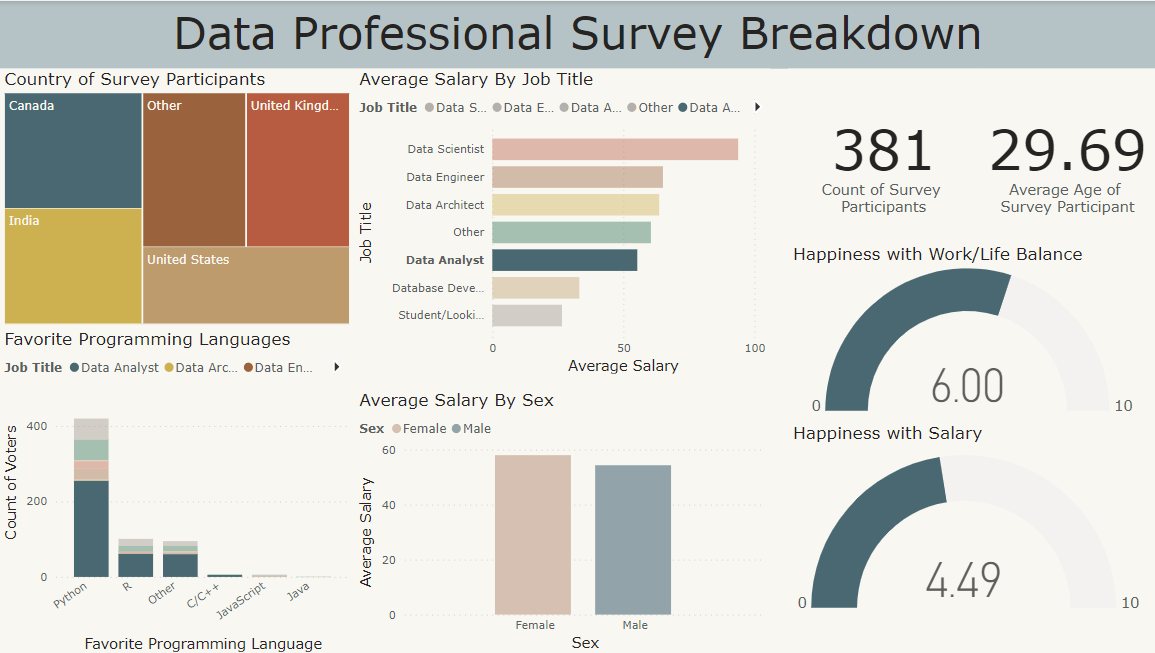

What the dashboard file says about the page in this screenshot:
{"tool":"powerbi","page":{"name":"Page 1","canvas":[1280,720],"ordinal":0},"visuals":[{"type":"textbox","box":[9.6,0,1270.4,74.2],"z":0},{"type":"card","fields":{"Values":["Count(Data Professional Survey.Unique ID)"]},"box":[876.2,74.2,208.8,190.9],"z":1000},{"type":"card","fields":{"Values":["Avg(Data Professional Survey.Q10 - Current Age)"]},"box":[1085,74.2,195,190.9],"z":2000},{"type":"barChart","title":"Average Salary By Job Title","fields":{"Category":["Data Professional Survey.Q1 - Which Title Best Fits your Current Role?.1"],"Y":["Avg(Data Professional Survey.Average Salary)"],"Series":["Data Professional Survey.Q1 - Which Title Best Fits your Current Role?.1"]},"box":[399.7,74.2,456,340.6],"z":2001},{"type":"columnChart","title":"Favorite Programming Languages","fields":{"Category":["Data Professional Survey.Q5 - Favorite Programming Language.1"],"Y":["CountNonNull(Data Professional Survey.Unique ID)"],"Series":["Data Professional Survey.Q1 - Which Title Best Fits your Current Role?.1"]},"box":[9.6,359.8,390,359.8],"z":2002},{"type":"treemap","title":"Country of Survey Takers","fields":{"Group":["Data Professional Survey.Q11 - Which Country do you live in?.1"],"Values":["Count(Data Professional Survey.Q11 - Which Country do you live in?.1)"]},"box":[9.6,74.2,390,285.7],"z":2003},{"type":"gauge","title":"Happiness with Work/Life Balance","fields":{"Y":["Avg(Data Professional Survey.Q6 - How Happy are you in your Current Position with the following? (Work/Life Balance))"],"MinValue":["Min(Data Professional Survey.Q6 - How Happy are you in your Current Position with the following? (Work/Life Balance))1"],"MaxValue":["Max(Data Professional Survey.Q6 - How Happy are you in your Current Position with the following? (Work/Life Balance))2"]},"box":[876.2,266.4,403.8,193.6],"z":2004},{"type":"gauge","title":"Happiness with Salary","fields":{"Y":["Avg(Data Professional Survey.Q6 - How Happy are you in your Current Position with the following? (Salary))"],"MinValue":["Min(Data Professional Survey.Q6 - How Happy are you in your Current Position with the following? (Salary))"],"MaxValue":["Max(Data Professional Survey.Q6 - How Happy are you in your Current Position with the following? (Salary))"]},"box":[876.2,462.8,395.5,222.5],"z":2005},{"type":"columnChart","title":"Average Salary By Sex","fields":{"Category":["Data Professional Survey.Q9 - Male/Female?"],"Y":["Avg(Data Professional Survey.Average Salary)"],"Series":["Data Professional Survey.Q9 - Male/Female?"]},"box":[399.7,427.1,456,292.5],"z":2006}]}

Visuals, with their boxes in screenshot pixels (x1, y1, x2, y2), scaled from the page's 1280x720 canvas onto the 1155x653 screenshot:
textbox: left=9, top=0, right=1154, bottom=67
card - Count(Data Professional Survey.Unique ID): left=791, top=67, right=979, bottom=240
card - Avg(Data Professional Survey.Q10 - Current Age): left=979, top=67, right=1154, bottom=240
"Average Salary By Job Title" barChart: left=361, top=67, right=772, bottom=376
"Favorite Programming Languages" columnChart: left=9, top=326, right=361, bottom=652
"Country of Survey Takers" treemap: left=9, top=67, right=361, bottom=326
"Happiness with Work/Life Balance" gauge: left=791, top=242, right=1154, bottom=417
"Happiness with Salary" gauge: left=791, top=420, right=1148, bottom=622
"Average Salary By Sex" columnChart: left=361, top=387, right=772, bottom=652
